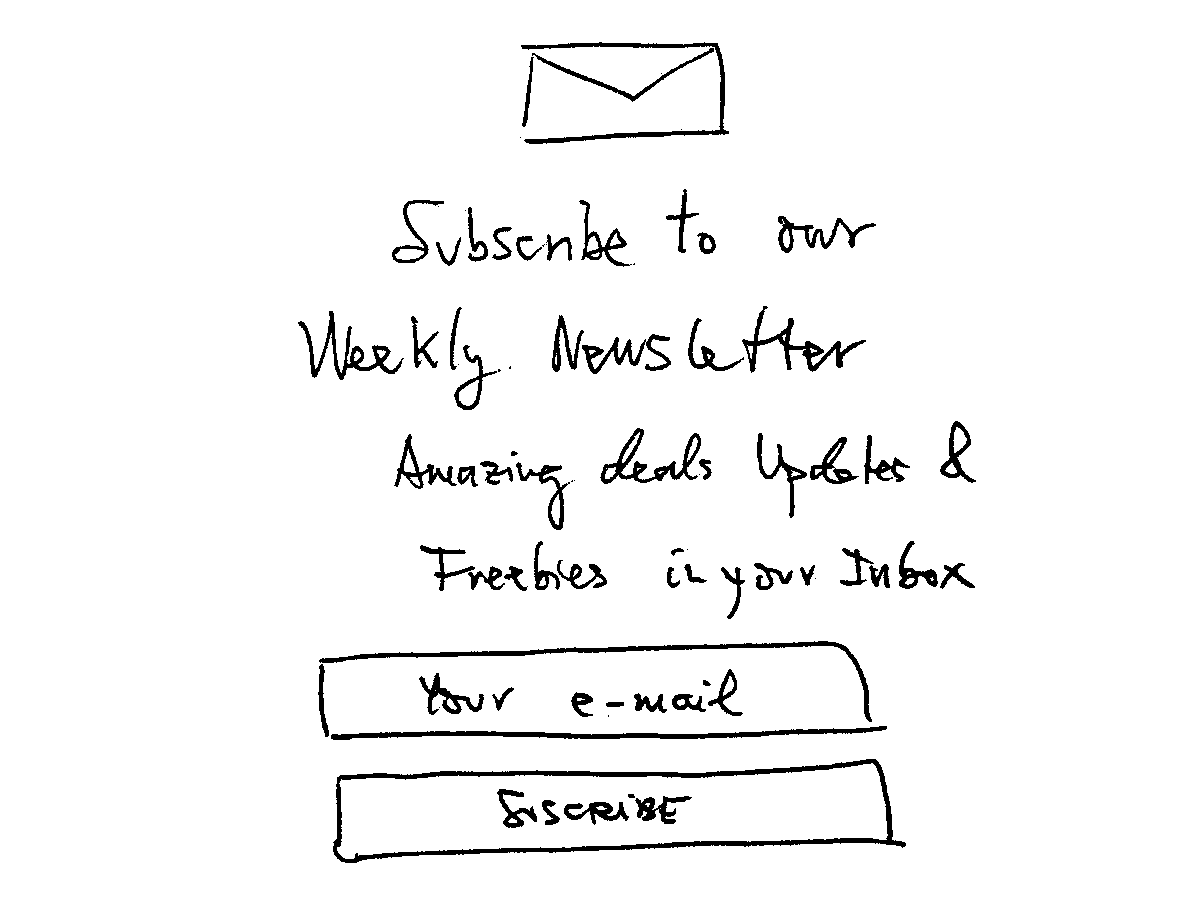Button: (330, 757, 908, 866), (316, 635, 892, 742)
